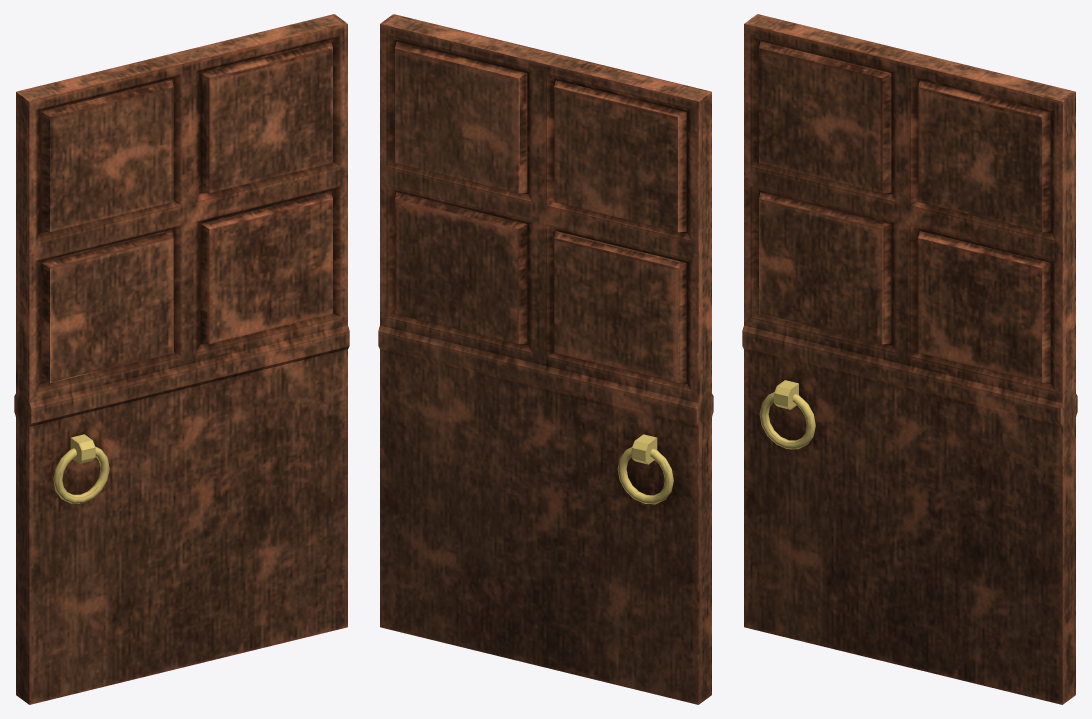
File: door.fbx
3 renders of one model, left to right at view 1: azimuth 30°, elevation 25°; view 2: azimuth 150°, elevation 25°; view 3: azimuth 330°, elevation 25°, orthographic.
Parts seen in each view (by area): view 1: door; view 2: door; view 3: door.
Boxes of the visible parts, x1=… form: door: x1=14, y1=14, x2=349, y2=704; door: x1=378, y1=14, x2=713, y2=704; door: x1=742, y1=14, x2=1077, y2=704.
Bounding box in the file's own units: 162 × 293 × 31.81.
Materials: 1 (1 with a texture image).
